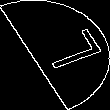L_SW: (17, 30, 93, 80)
